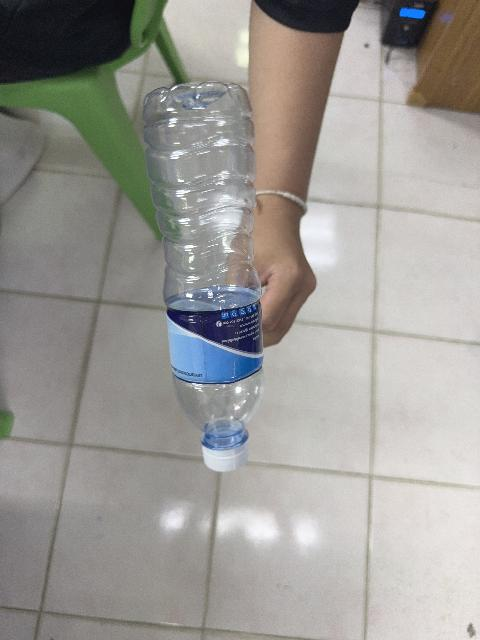bottle: (143, 83, 262, 471)
